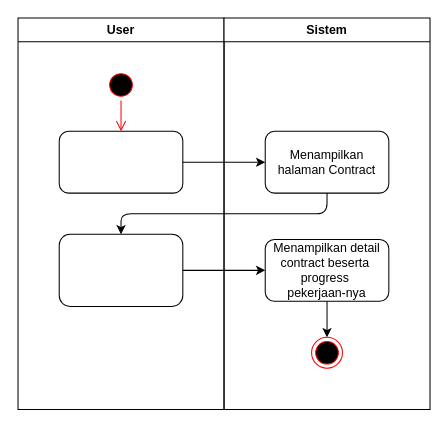
Image size: 448x427. Some labels were removed from this diagram. Each missing label, with the centre of its shape:
"Pilih fitur contract" belongs at [120,161].
"Tekan tombol setting (detail contract) pada salah satu data contract" belongs at [120,269].
